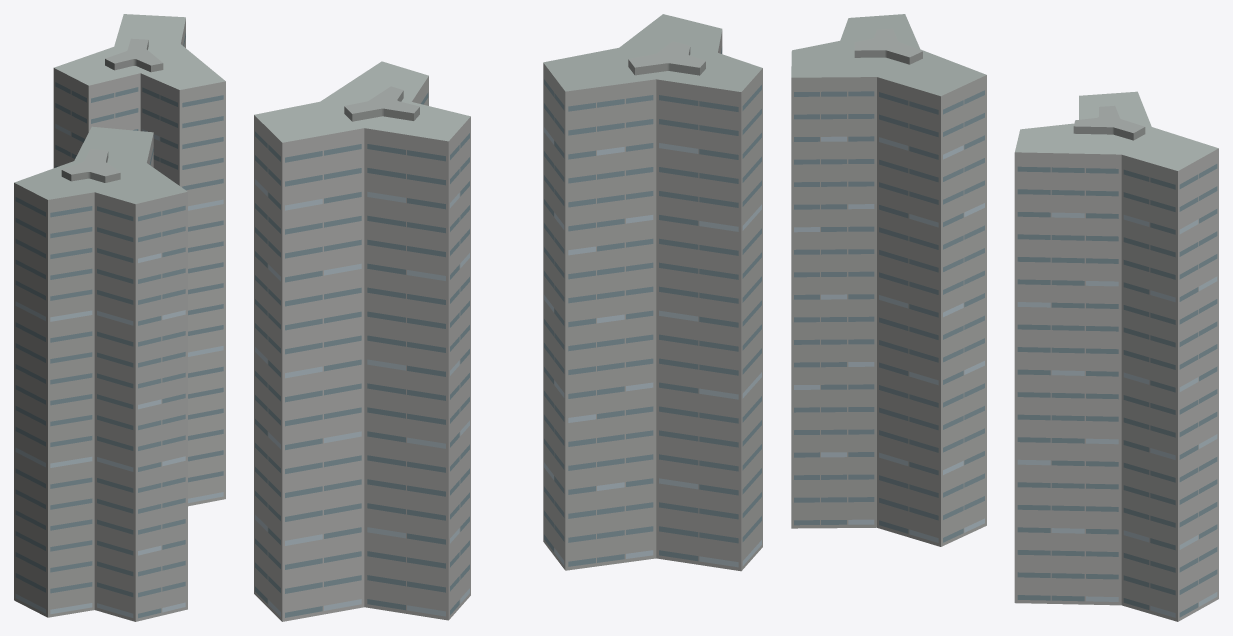
Rendered from apt-a10026922.glb.
3 renders of one model, left to right at view 1: azimuth 30°, elevation 25°; view 2: azimuth 150°, elevation 25°; view 3: azimuth 270°, elevation 25°, orthographic. The views are drawn at different scales.
Visible parts, largest first — view 1: apt-a10026922; view 2: apt-a10026922; view 3: apt-a10026922.
Part boxes in pixels (x1,y1,x2,y2): apt-a10026922: (14, 14, 225, 621); apt-a10026922: (254, 14, 762, 621); apt-a10026922: (791, 14, 1218, 621).
Bounding box in the file's own units: 110 × 150 × 127.
